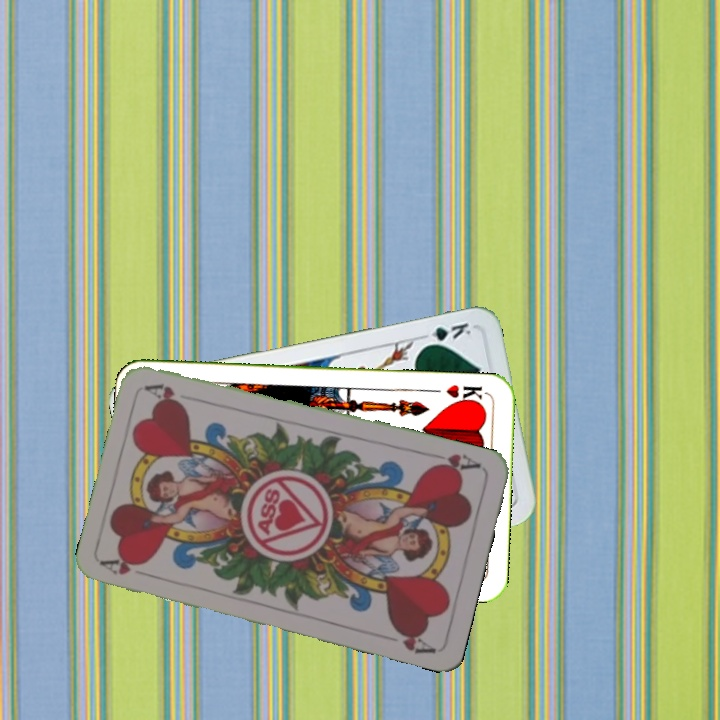GK: (416, 318, 474, 349)
HA: (426, 448, 484, 477), (99, 554, 157, 581)
HK: (442, 380, 489, 407)
